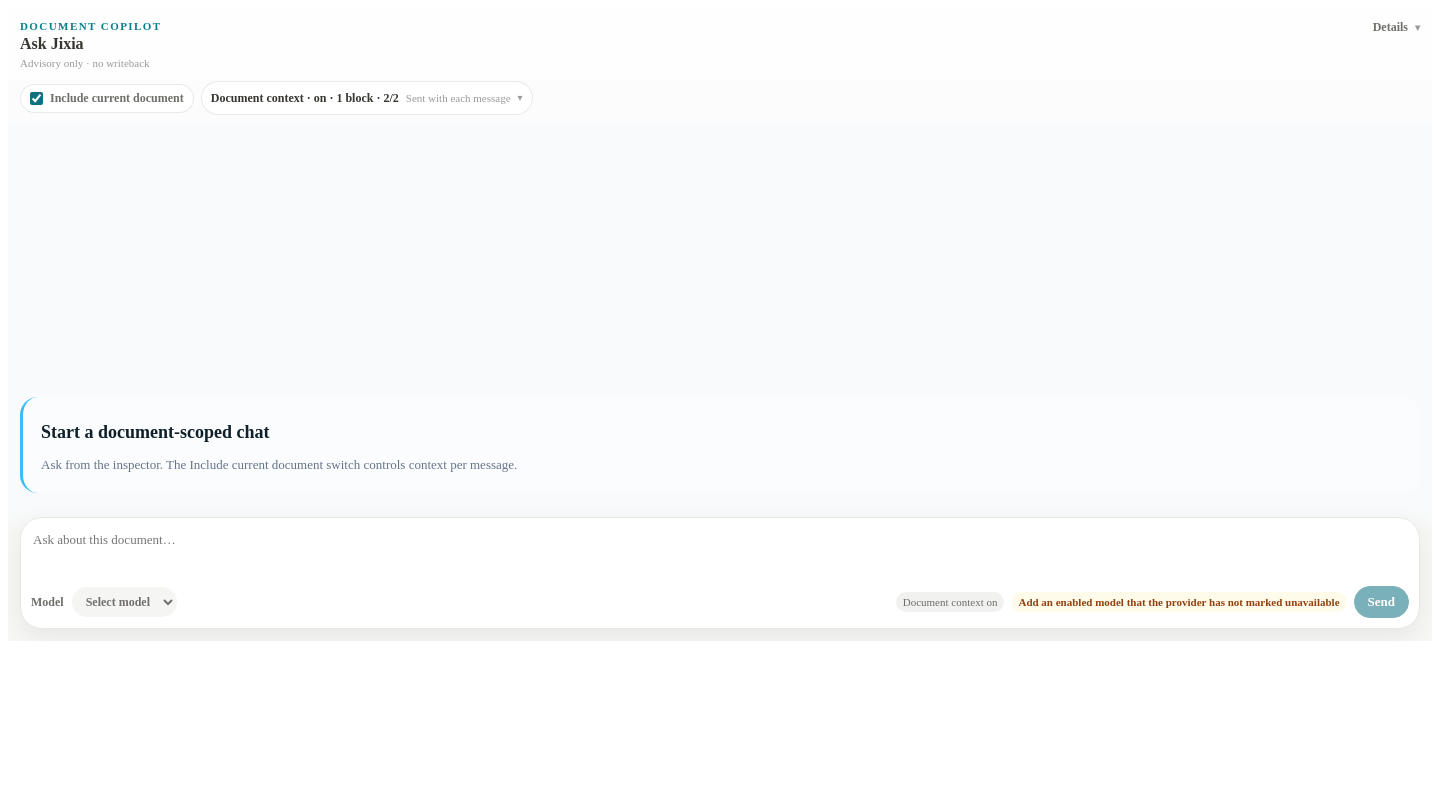
Test case: DocumentCopilotPanel › streams a document-scoped advisory response with explicit bounded context
This screenshot has width=1440, height=810.
In the text box named "Ask document copilot": (720,554) [31,528,1409,580], type "Summarize this document"
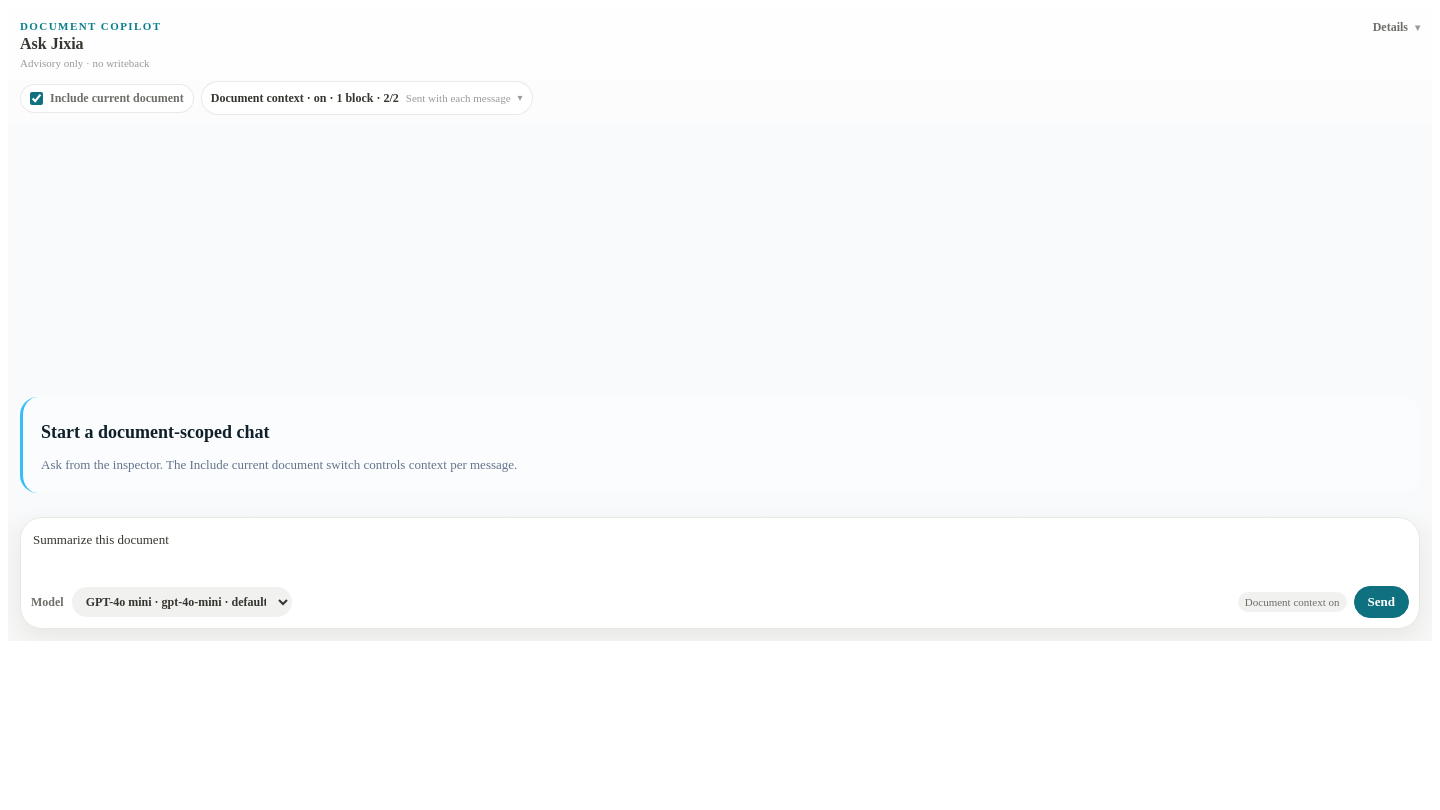
Click the button "Send": (1381,602) [1354,586,1409,618]
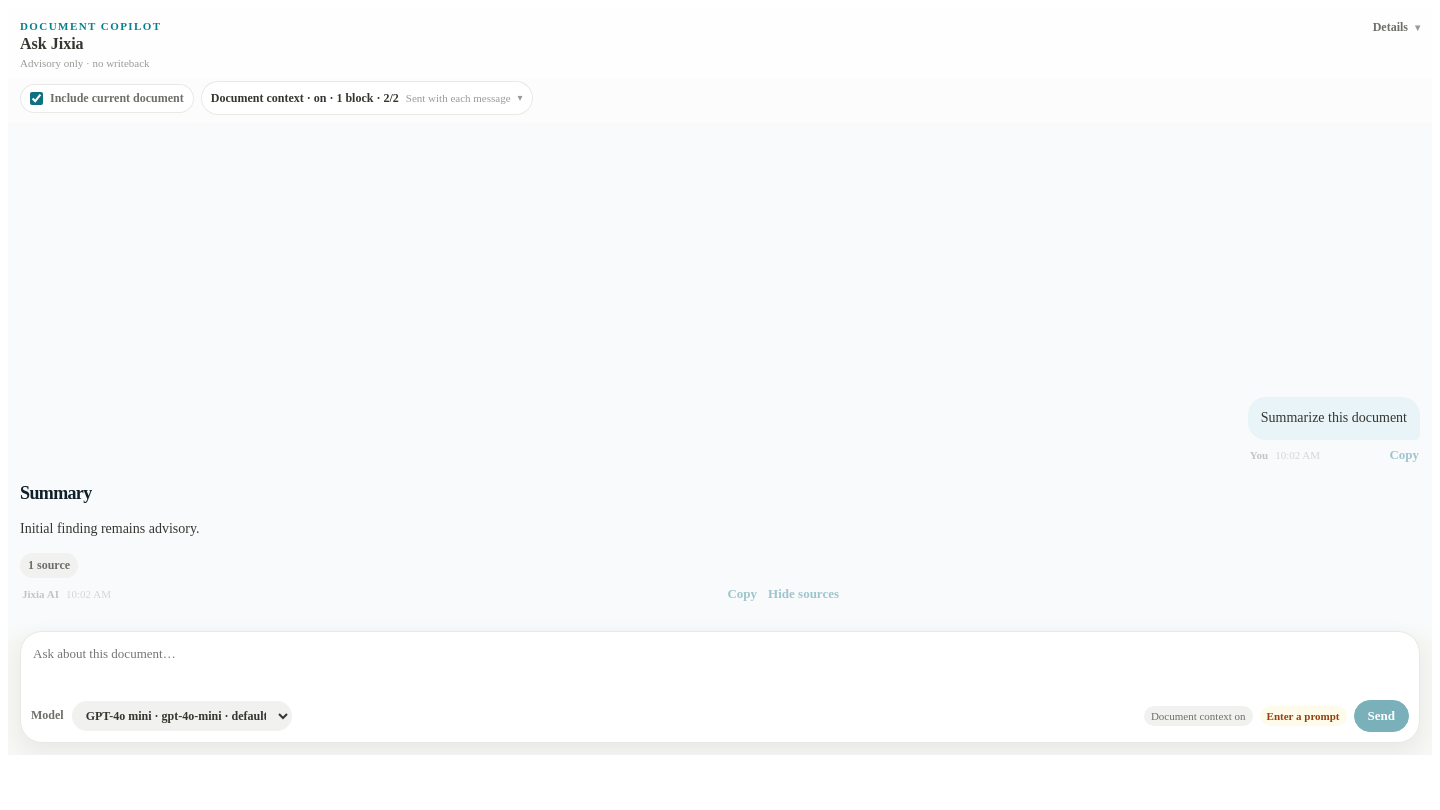
Result: the heading "Summary" is shown at [20,483,92,503]
Result: the text "Initial finding remains advisory." is shown at [20,521,200,536]
Result: the element named "Sources used" is shown at [20,553,78,578]
